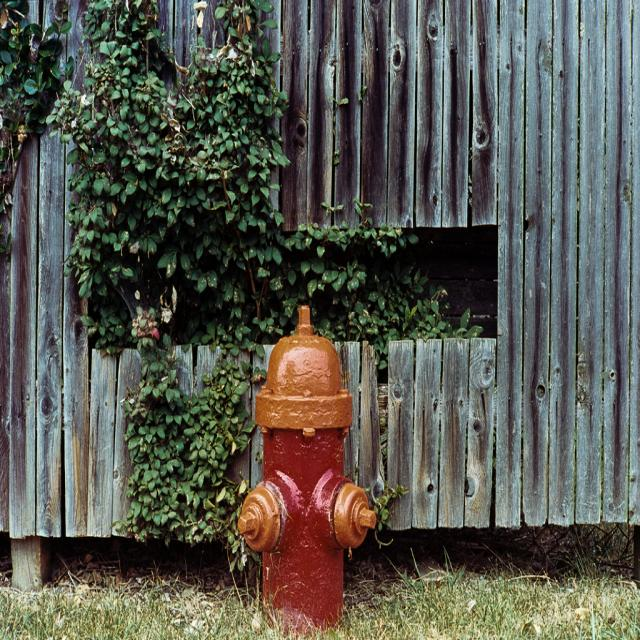fire_hydrant: (241, 304, 377, 632)
